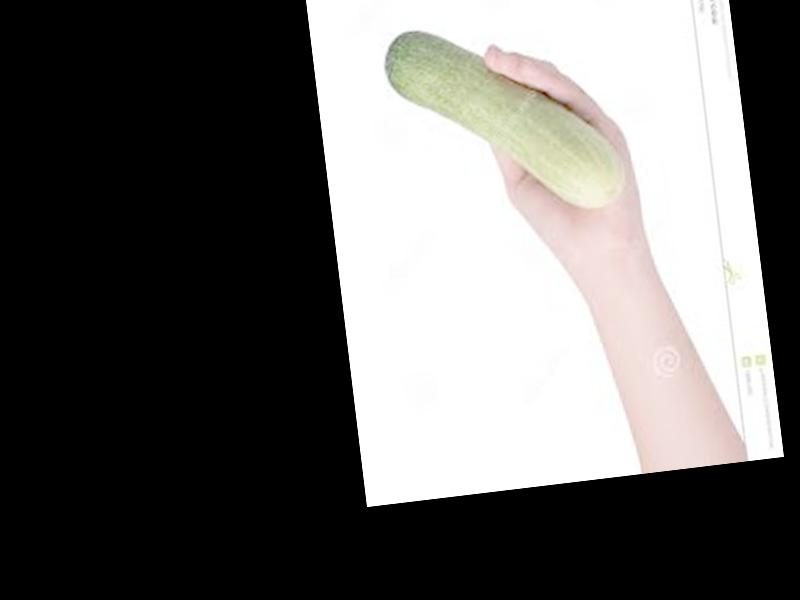Cucumber: (383, 10, 626, 230)
